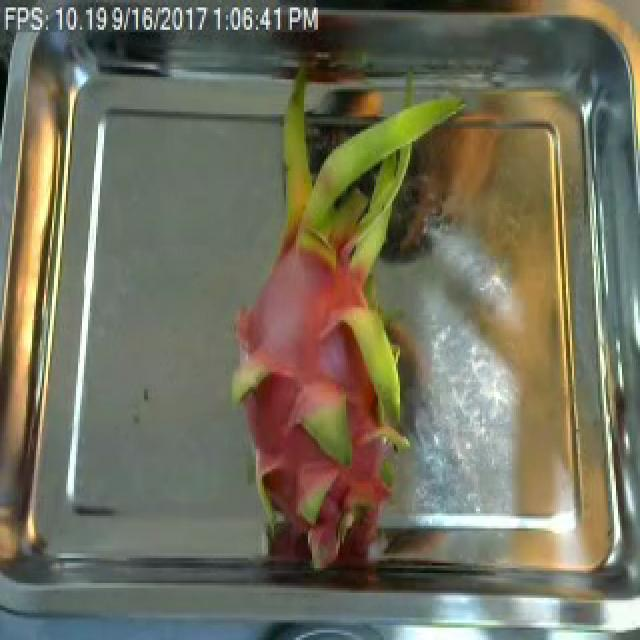fruit: (216, 104, 458, 556)
